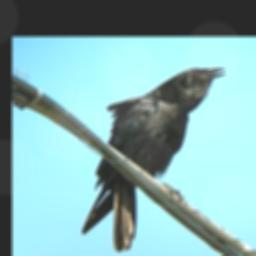Crow: (80, 65, 226, 253)
